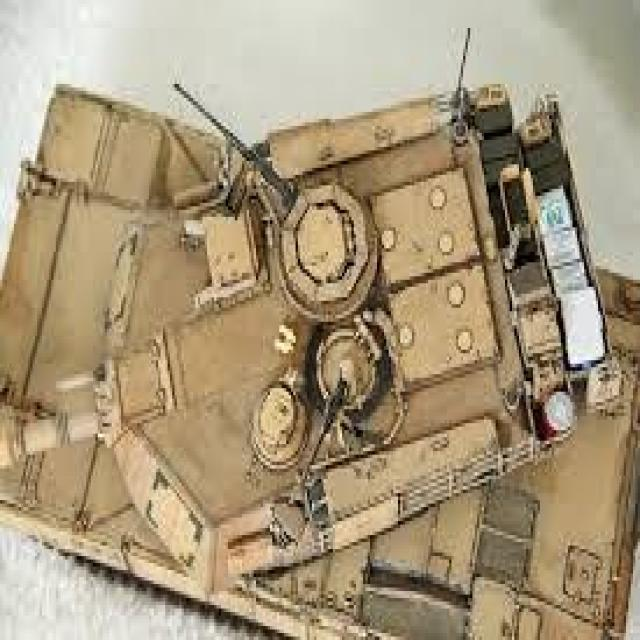Tanks: (9, 45, 575, 616)
